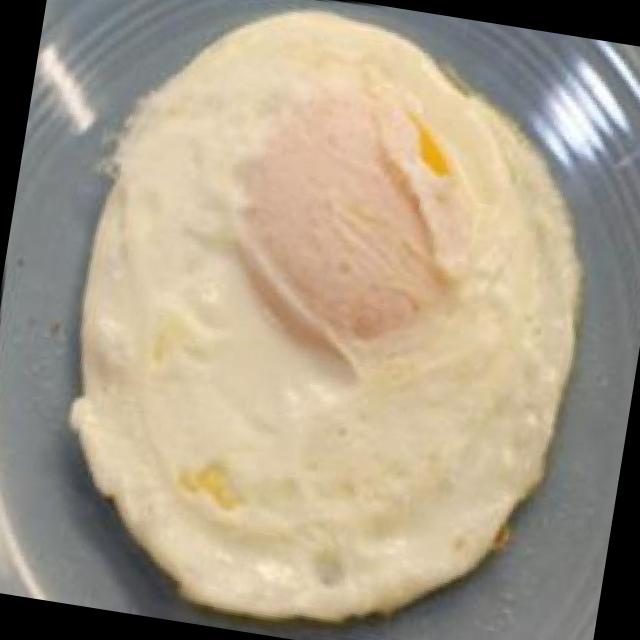fried_eggs: (13, 0, 639, 640)
